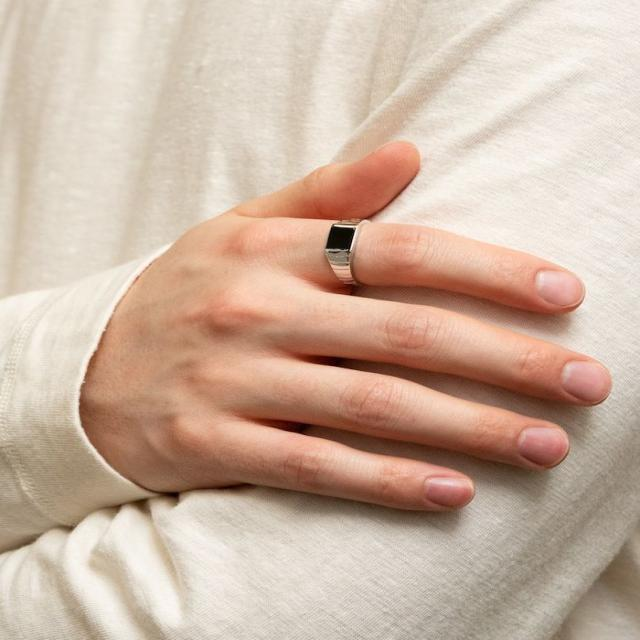Fingernail: (562, 360, 613, 403), (519, 425, 569, 467), (536, 269, 585, 306), (422, 474, 474, 508)
